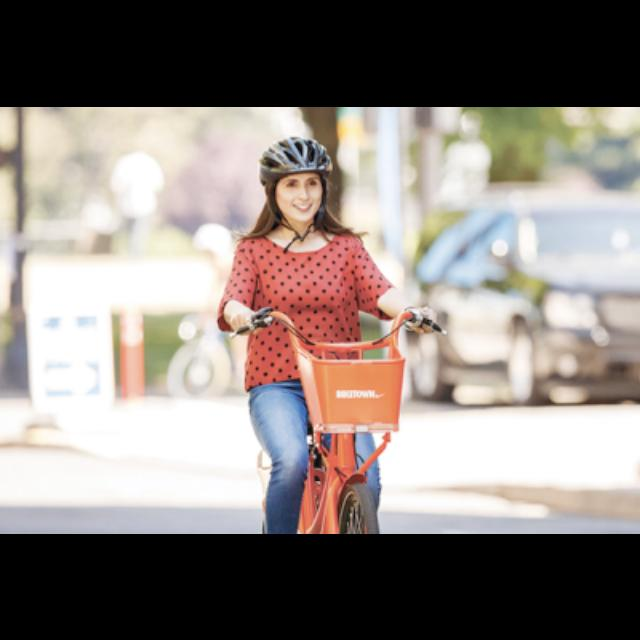With Helmet: (253, 135, 343, 233)
